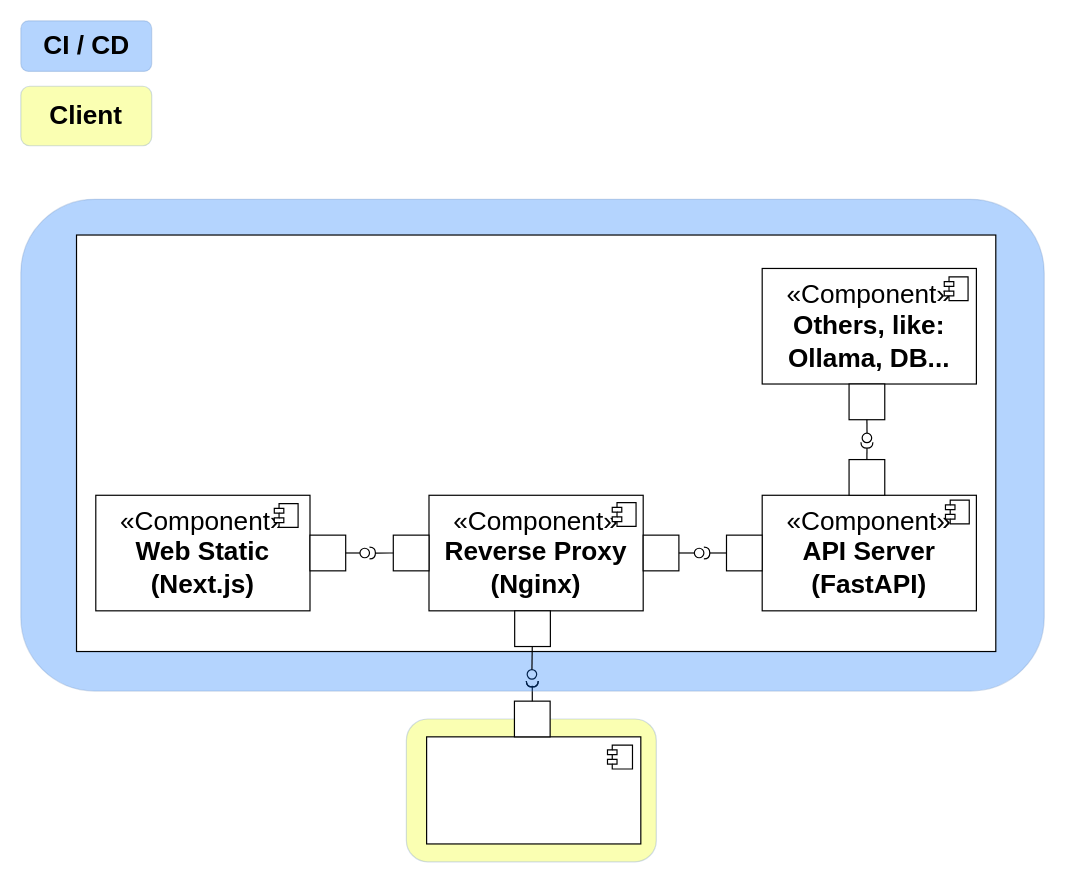
The diagram is 1065 pixels wide and 883 high, and some of its shapes have lost their labels. Here are the shapes that lost their labels. From the top down, the box of each, then its label:
(75, 234, 996, 652): «Component» Server P.S: 如果在不同 docker-compose.yml 建立容器 容器名稱作為域名是不行的
(425, 736, 641, 844): «Interface » Web Interface
